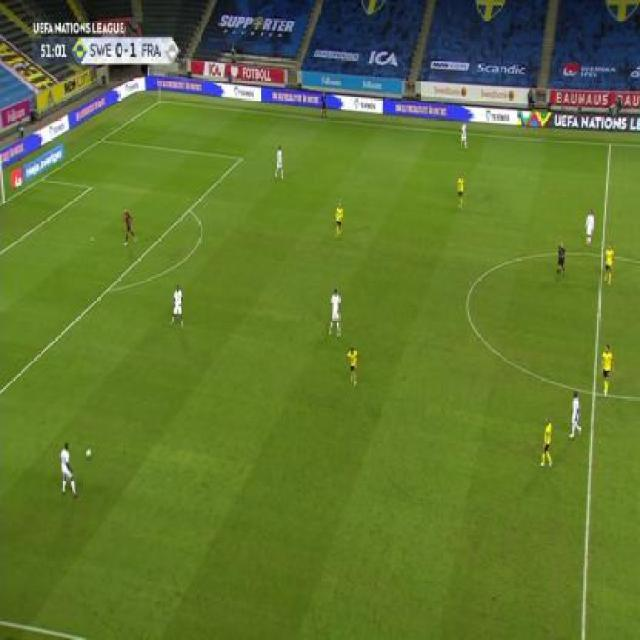ball: (85, 446, 93, 459)
player: (58, 441, 80, 500), (538, 416, 555, 470), (599, 342, 615, 396), (328, 286, 344, 339), (568, 389, 584, 440), (169, 282, 185, 330), (602, 242, 616, 287), (121, 206, 137, 245), (346, 345, 359, 387), (584, 208, 597, 247), (556, 238, 567, 280), (456, 172, 467, 211), (274, 144, 285, 181), (334, 200, 343, 239), (459, 120, 470, 149), (320, 92, 329, 120)
